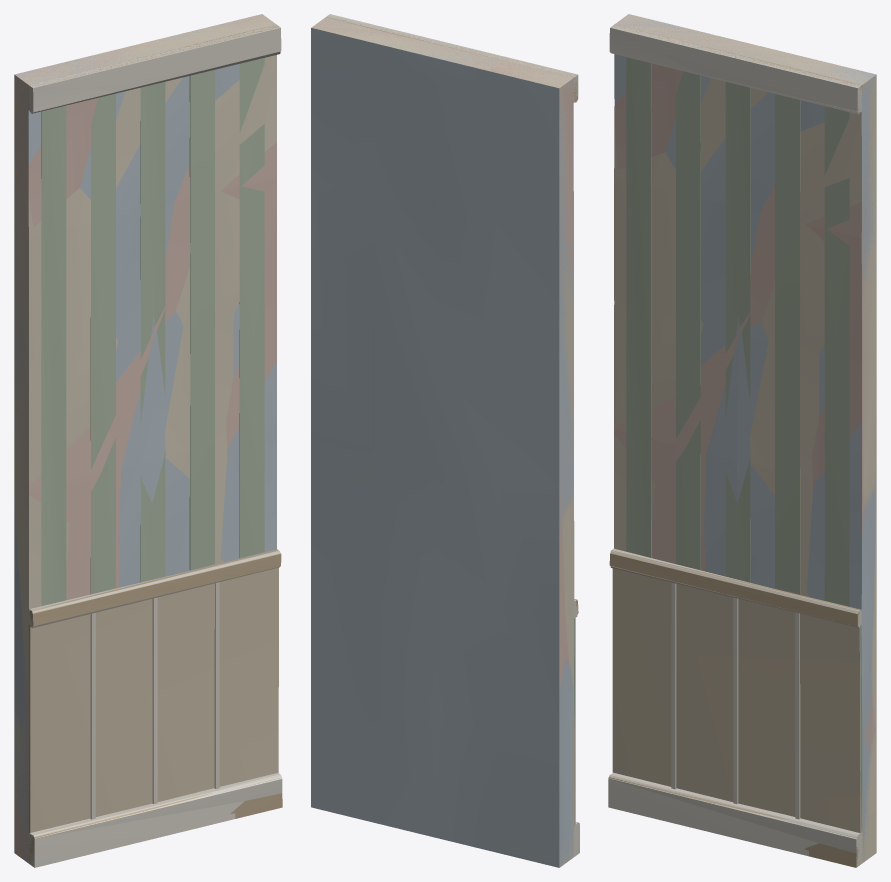
Rendered from iwall.plain.glb.
3 views of the same model, side by side, from view 1: azimuth 30°, elevation 25°; view 2: azimuth 150°, elevation 25°; view 3: azimuth 330°, elevation 25° (orthographic).
Parts seen in each view (by area): view 1: iwall.plain.v0.mesh, iwall.plain.v1.mesh, iwall.plain.v2.mesh; view 2: iwall.plain.v2.mesh, iwall.plain.v0.mesh, iwall.plain.v1.mesh; view 3: iwall.plain.v0.mesh, iwall.plain.v1.mesh, iwall.plain.v2.mesh.
Part boxes in pixels (x1,y1,x2,y2): iwall.plain.v0.mesh: (14,14,281,867); iwall.plain.v1.mesh: (14,14,282,865); iwall.plain.v2.mesh: (14,15,282,865); iwall.plain.v2.mesh: (311,14,579,867); iwall.plain.v0.mesh: (312,14,579,866); iwall.plain.v1.mesh: (311,16,579,826); iwall.plain.v0.mesh: (608,14,876,863); iwall.plain.v1.mesh: (608,15,876,867); iwall.plain.v2.mesh: (608,14,876,866).
Size of the model in its own units: 0.9999 by 3 by 0.1425.
